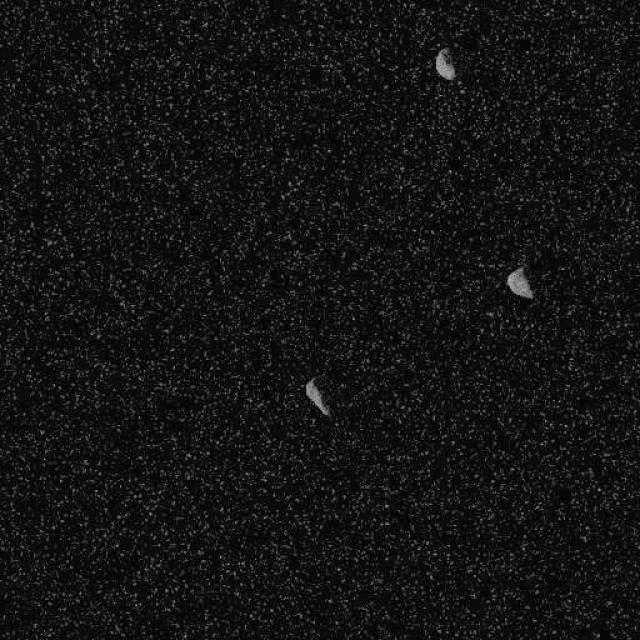D2: (304, 374, 332, 418), (505, 265, 534, 299), (434, 46, 456, 82)
